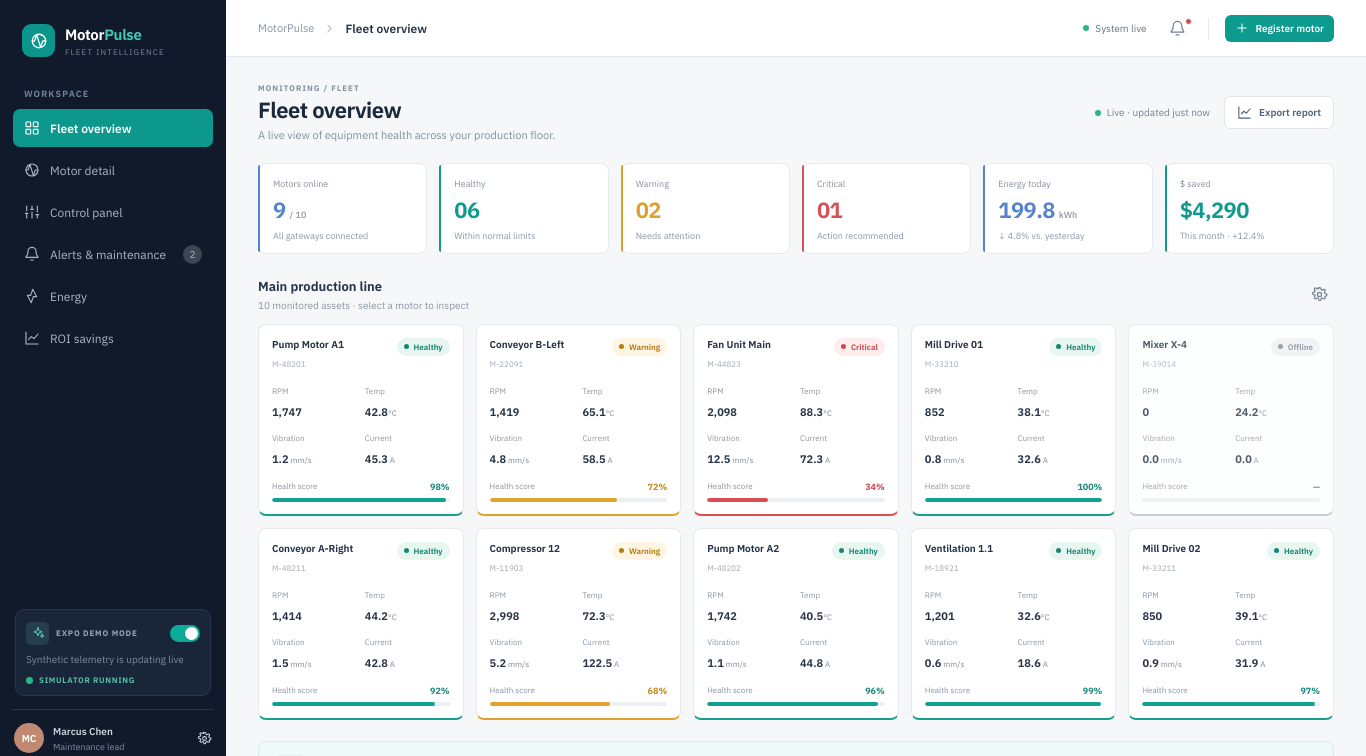
Test: opens a motor detail screen from its fleet tile
Click the button with aria-label "view pump motor a1 details".
click(361, 420)  # box [258,324,464,516]
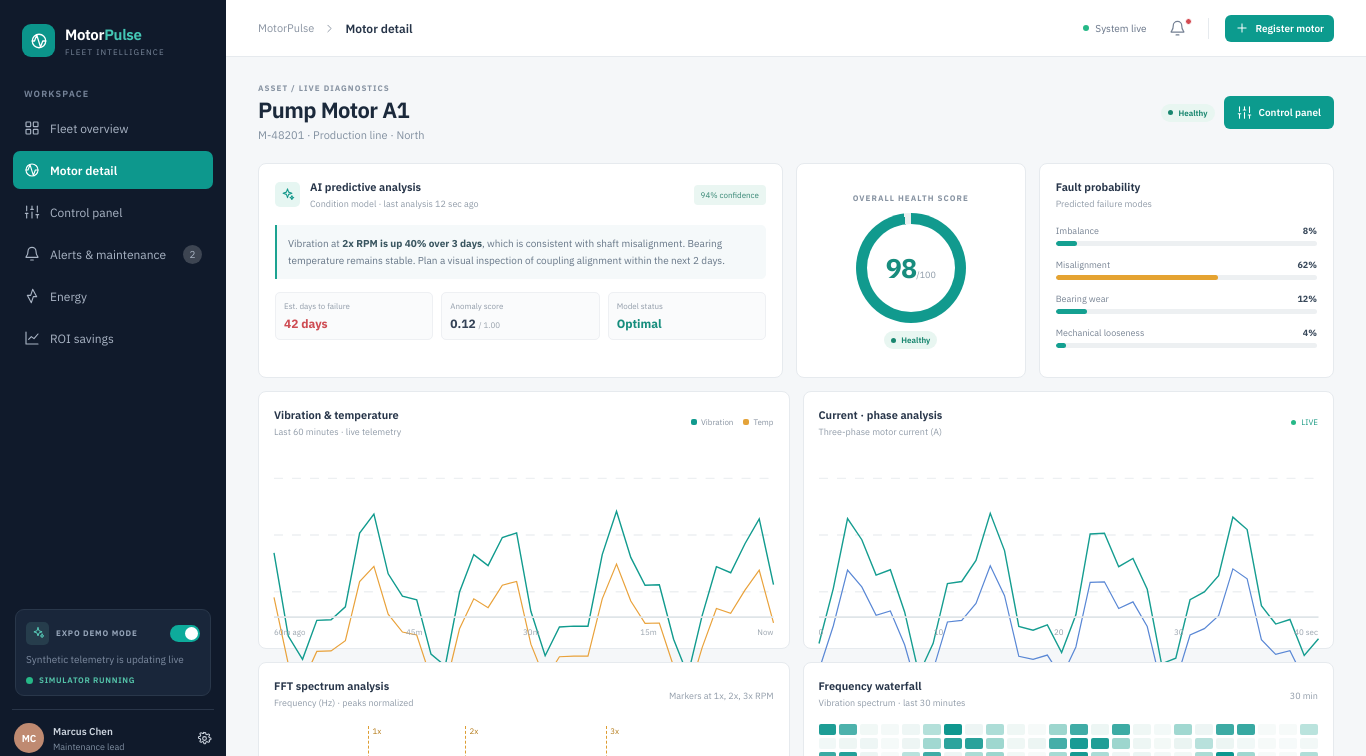
Now the heading "Pump Motor A1" is shown, box [258,97,424,123]
Now the heading "AI predictive analysis" is shown, box [310,180,421,194]
